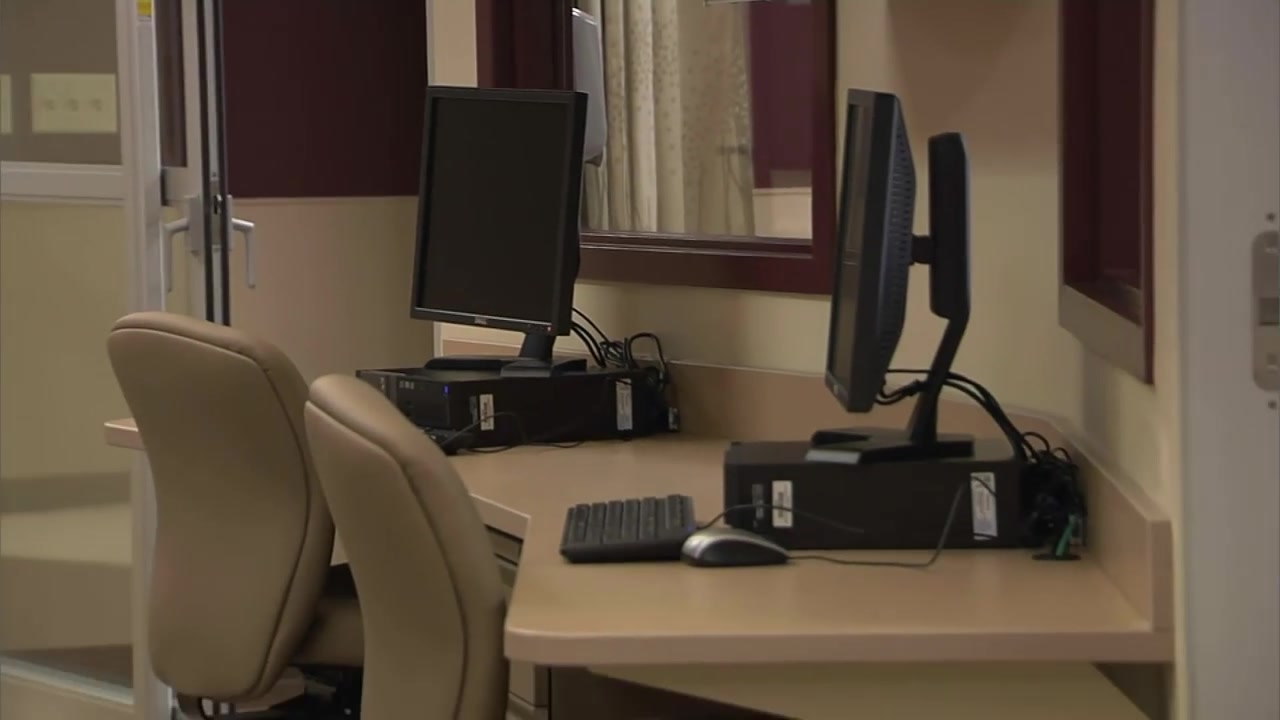chair: (107, 311, 365, 720), (304, 373, 506, 720)
computer: (720, 89, 1085, 552), (327, 87, 667, 445)
countertop: (107, 393, 1158, 664)
curtain: (586, 1, 762, 246)
door_handle: (156, 217, 191, 293), (229, 213, 259, 291)
keyboard: (561, 493, 690, 565)
mouse: (683, 529, 789, 567)
